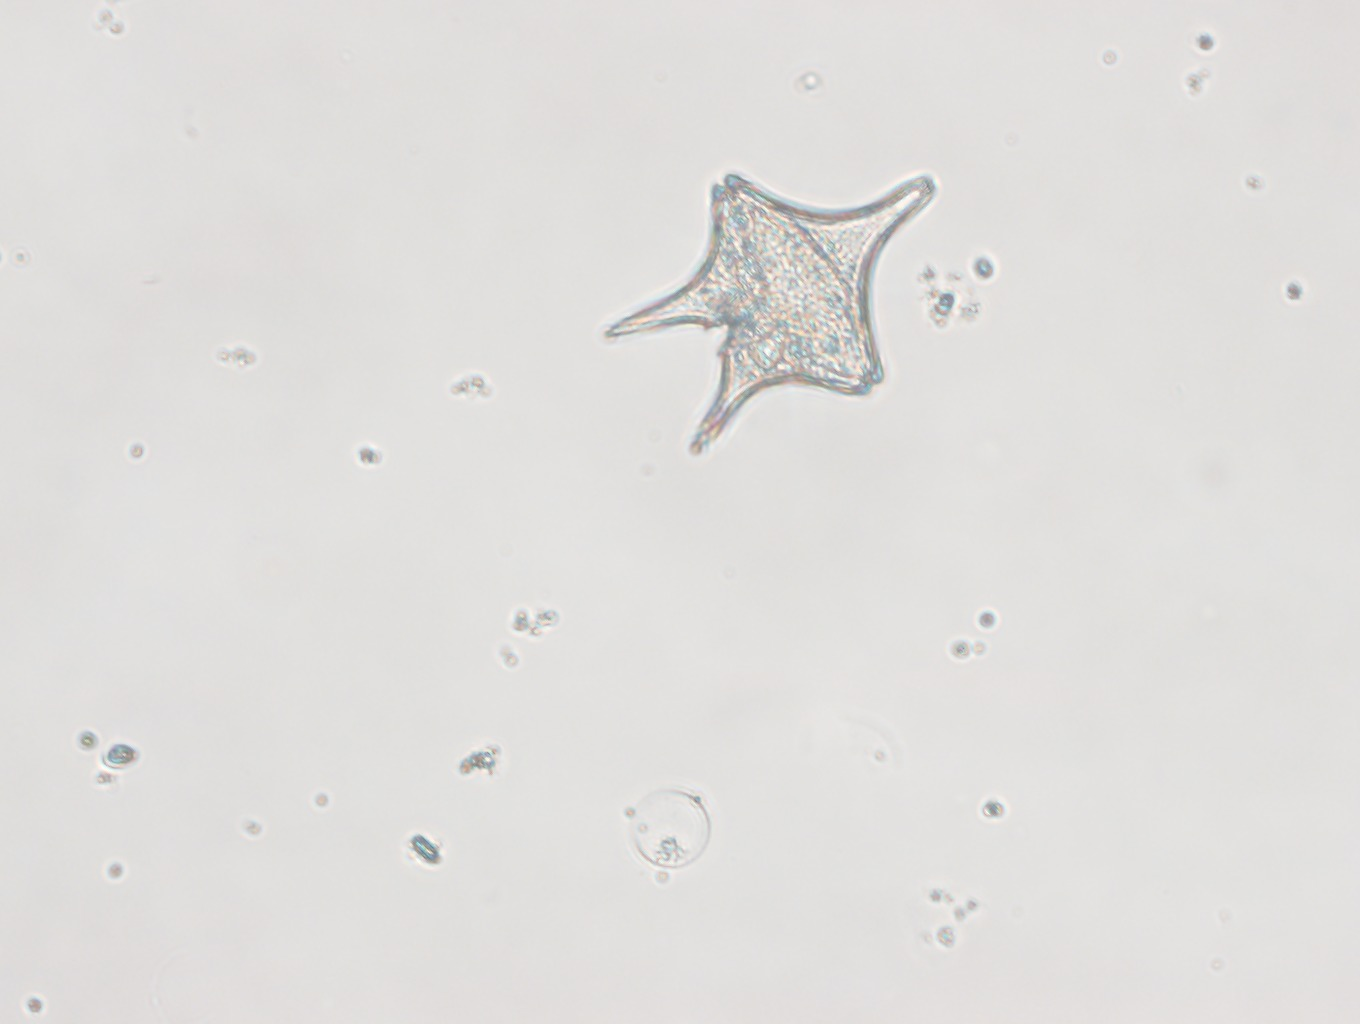protoperidinium: (604, 168, 941, 458)
